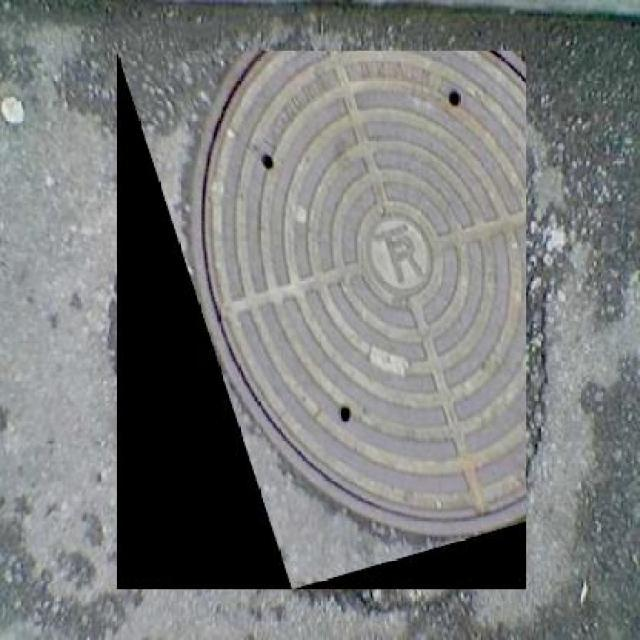Manhole: (117, 52, 526, 590)
